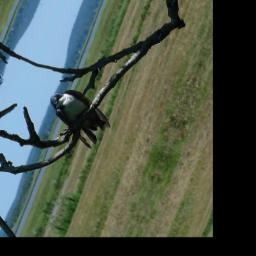Swallow: (35, 81, 121, 155)
